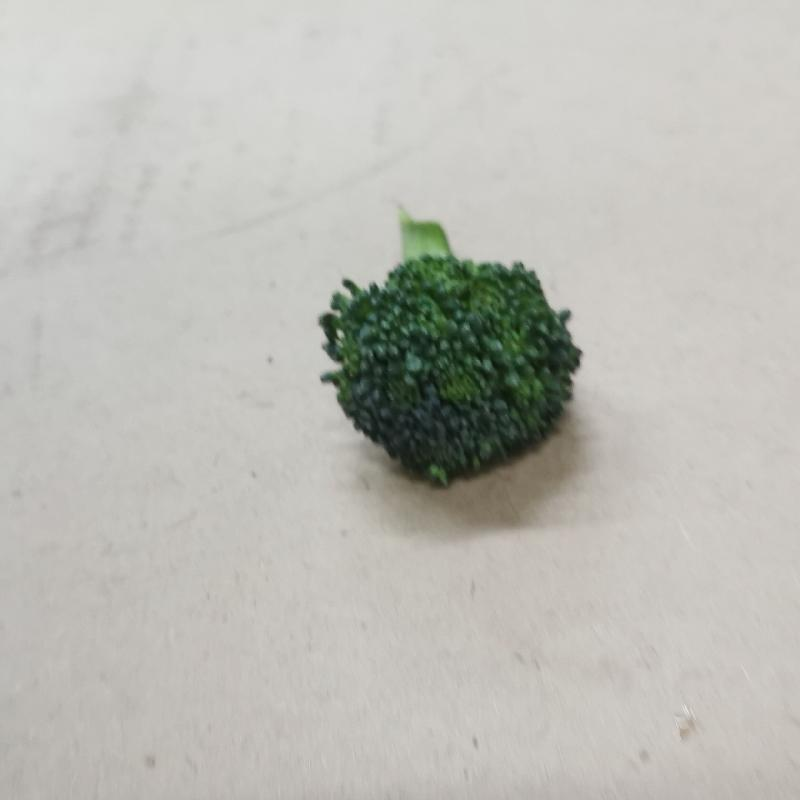broccoli: (314, 205, 582, 501)
